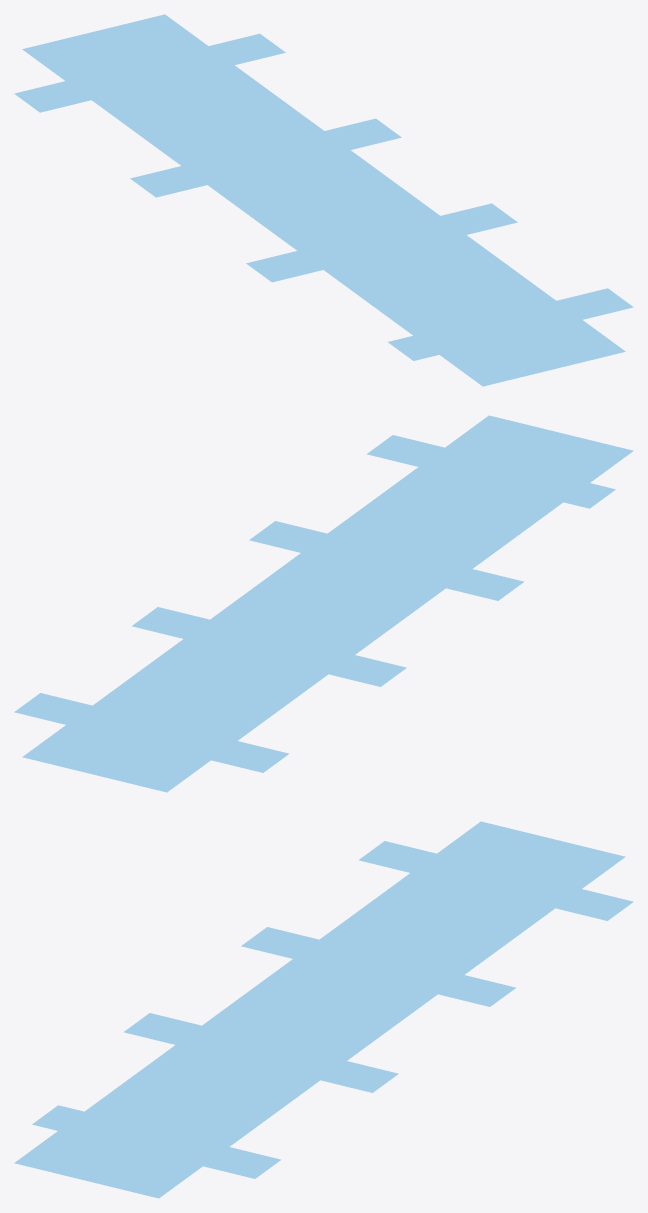
The model's file is TeleAreaUVs.fbx.
3 renders of one model, top to bottom at view 1: azimuth 30°, elevation 25°; view 2: azimuth 150°, elevation 25°; view 3: azimuth 330°, elevation 25°, orthographic.
Parts seen in each view (by area): view 1: TeleSurf; view 2: TeleSurf; view 3: TeleSurf.
Boxes of the visible parts, x1,y1,x2,y2 form: TeleSurf: (15,14,632,386); TeleSurf: (15,415,632,792); TeleSurf: (15,821,632,1198).
Bounding box in the file's own units: 980 × 0.000518 × 3180.
